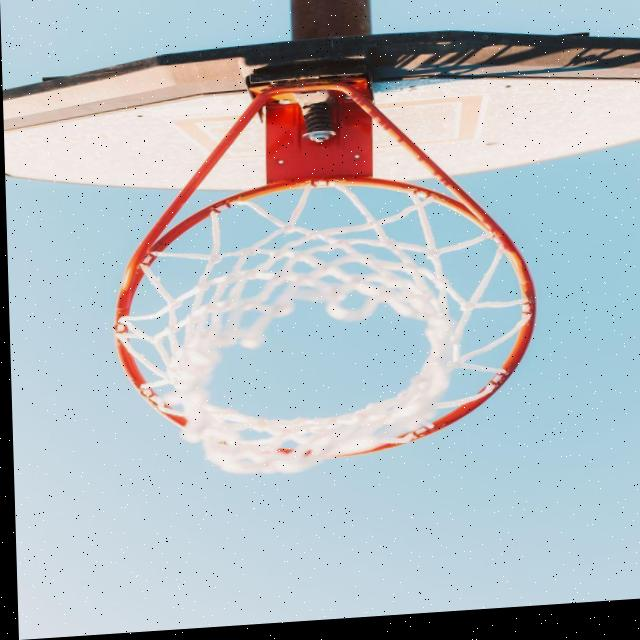hoop: (167, 29, 567, 492)
